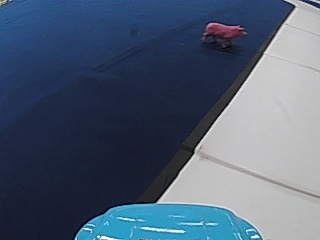pig: (200, 18, 246, 49)
